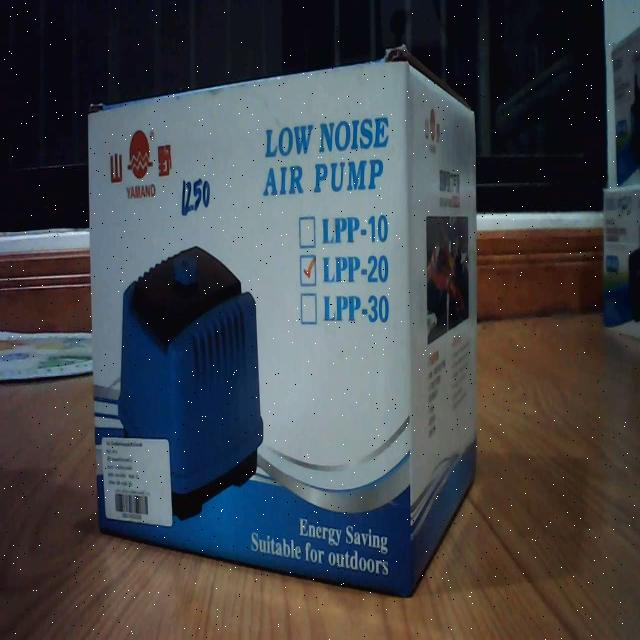YAMANO_LPP_20: (73, 41, 490, 615)
